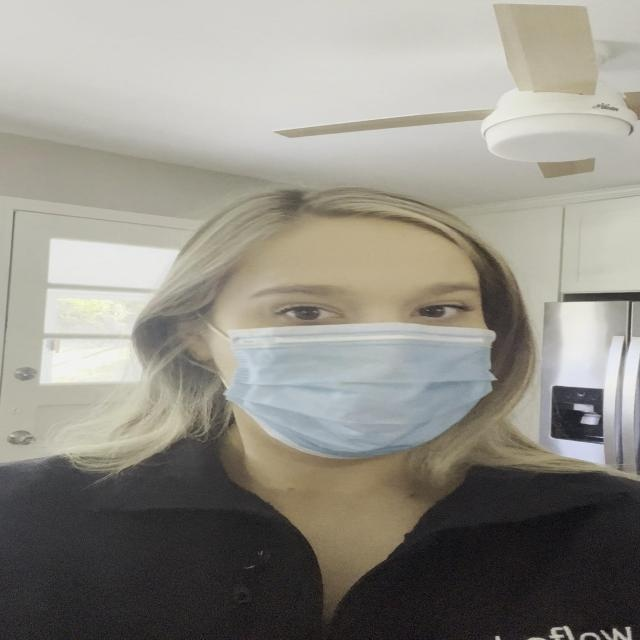Mask: (235, 327, 502, 451)
NO-Hardhat: (173, 192, 490, 280)
NO-Safety Vest: (0, 445, 640, 640)
Person: (0, 192, 640, 640)
